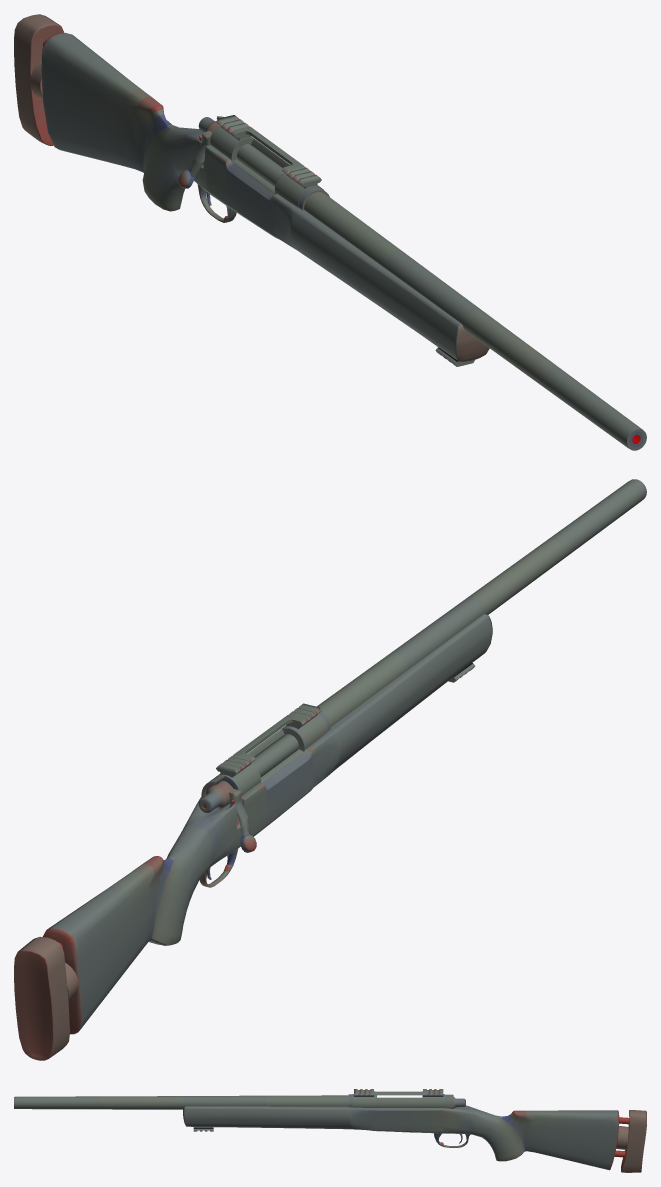
Rendered from SniperRifle_LowPoly_OLD.fbx.
The picture shows the model from 3 angles, top to bottom: view 1: azimuth 30°, elevation 25°; view 2: azimuth 150°, elevation 25°; view 3: azimuth 270°, elevation 25°; orthographic projection. The views are drawn at different scales.
Parts seen in each view (by area): view 1: SniperRifle_Stock, SniperRifle_Bolt; view 2: SniperRifle_Stock, SniperRifle_Bolt; view 3: SniperRifle_Stock.
Boxes of the visible parts, x1,y1,x2,y2 form: SniperRifle_Stock: (14,14,646,450); SniperRifle_Bolt: (178,122,283,188); SniperRifle_Stock: (14,479,646,1060); SniperRifle_Bolt: (211,734,298,852); SniperRifle_Stock: (14,1089,646,1172).
Size of the model in its own units: 53.32 by 126 by 900.
